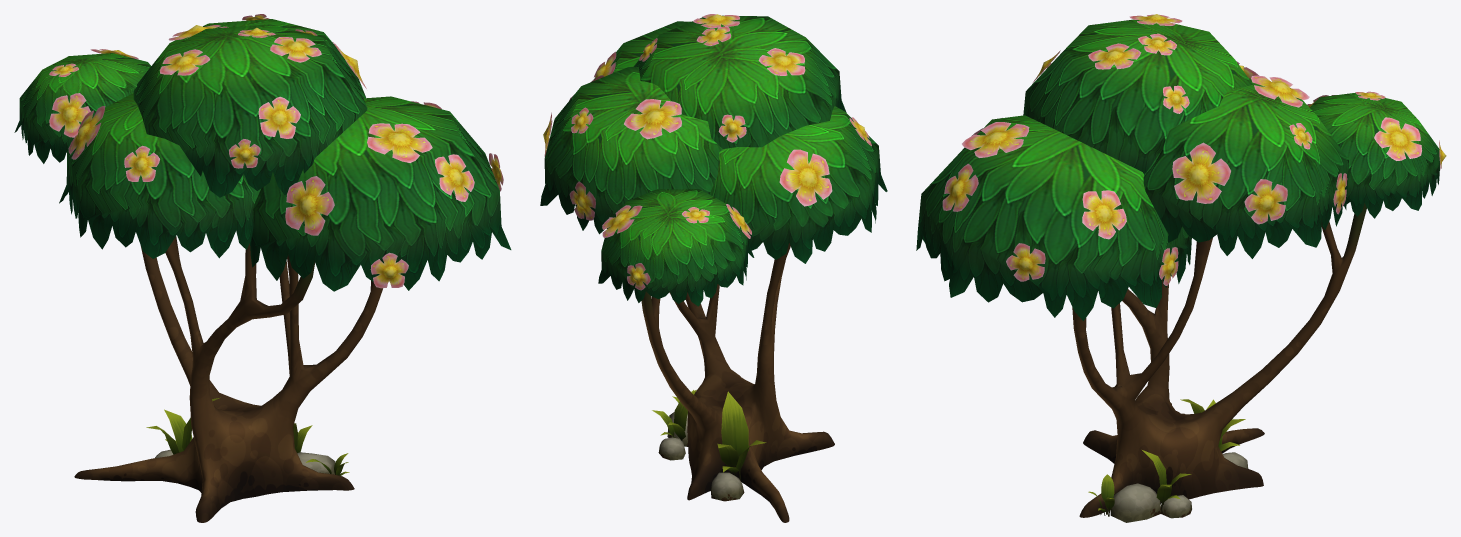
3 renders of one model, left to right at view 1: azimuth 30°, elevation 25°; view 2: azimuth 150°, elevation 25°; view 3: azimuth 270°, elevation 25°, orthographic. The views are drawn at different scales.
Visible parts, largest first — view 1: tree_cluster; view 2: tree_cluster; view 3: tree_cluster.
Boxes of the visible parts, box(x1,y1,x2,y2) form: tree_cluster: box(14, 14, 511, 522); tree_cluster: box(540, 14, 887, 522); tree_cluster: box(916, 14, 1446, 522).
Bounding box in the file's own units: 30.09 × 37.33 × 39.14.
1 material, 1 textured.
